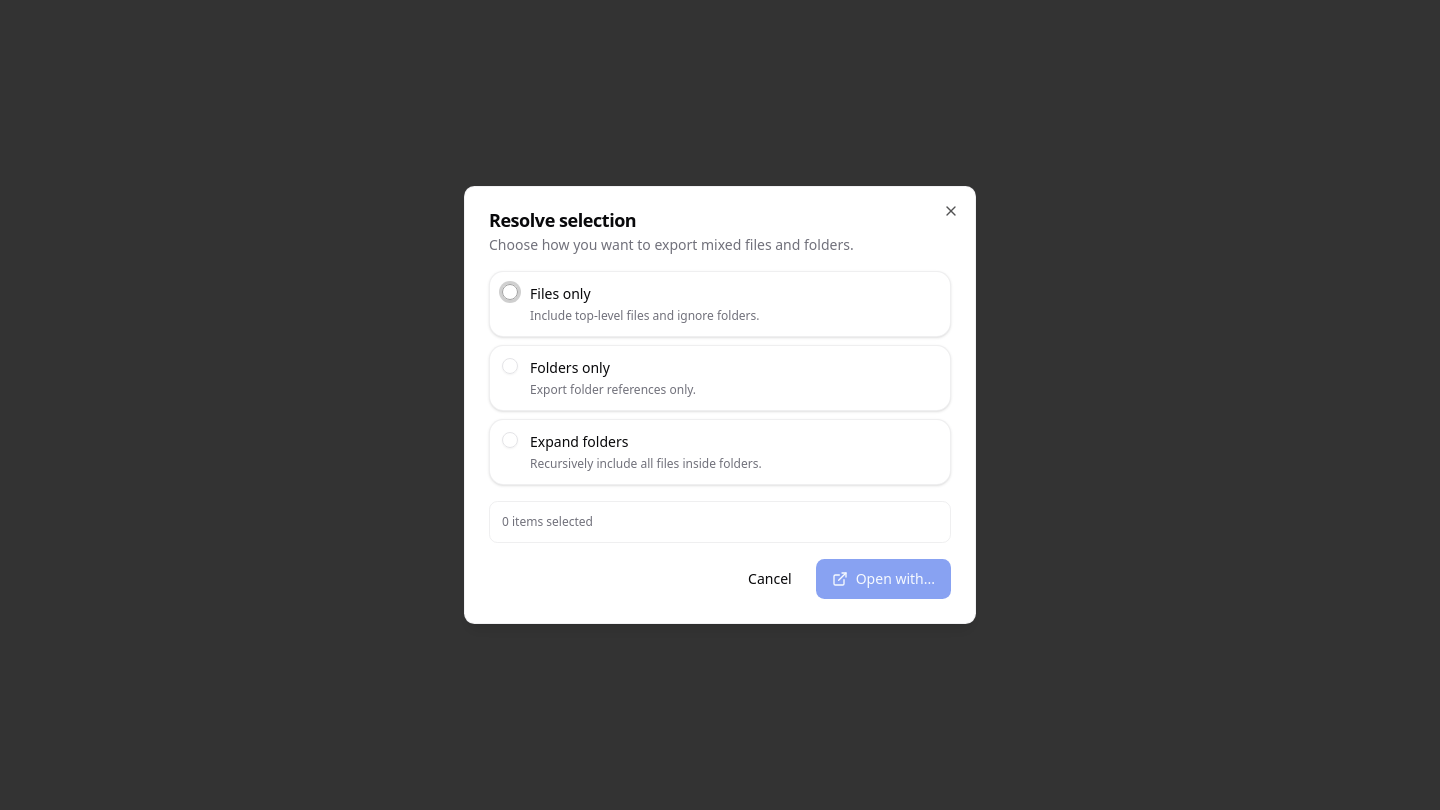
ExportResolutionModal › disables proceed button when resolved set is empty
The image size is (1440, 810).
Click the radio button named "files only" next to "Files only".
click(510, 292)  # box [502, 284, 518, 300]
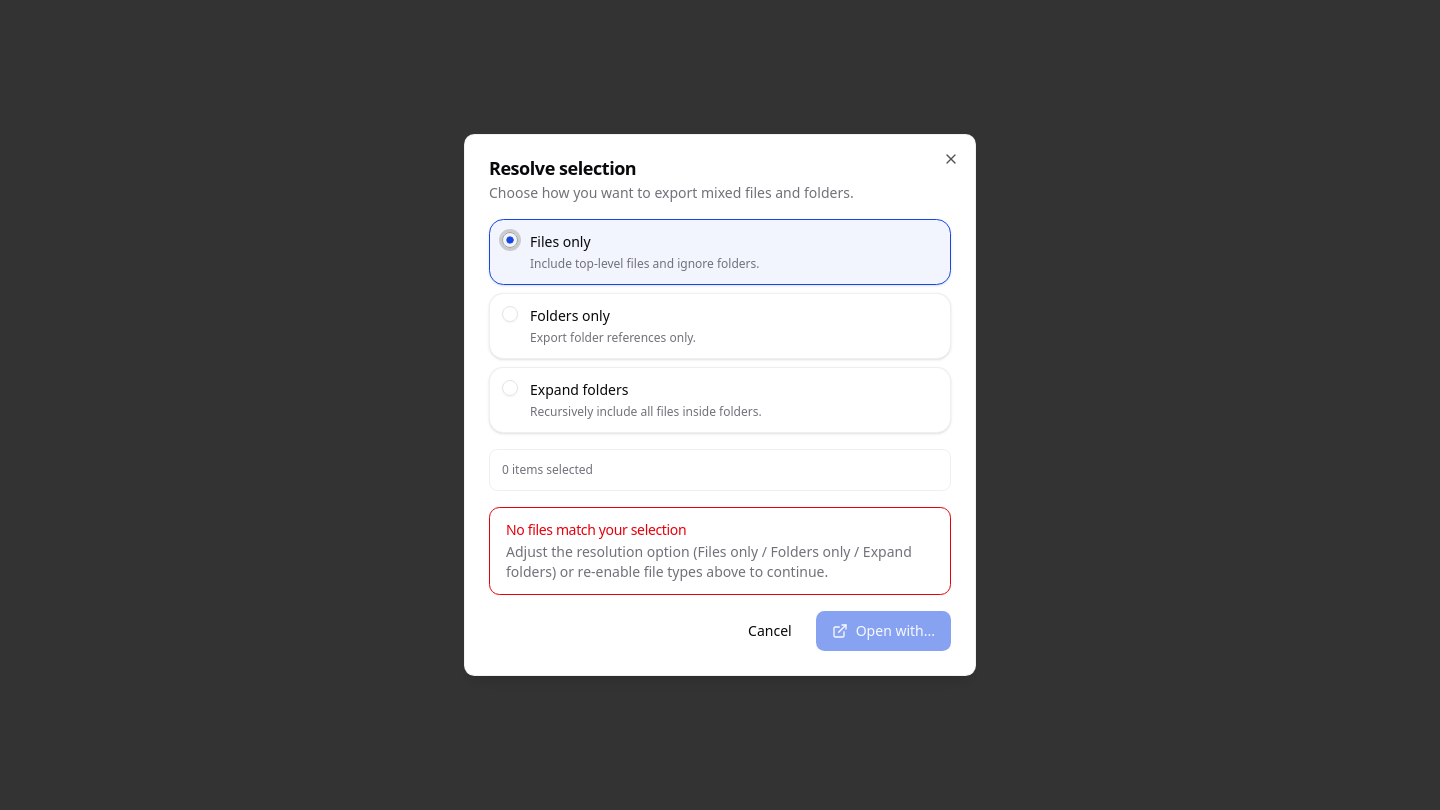
Expected: the button "Open with..." is disabled, [816, 611, 951, 651]
Result: the heading "No files match your selection" is shown at [506, 520, 686, 539]
